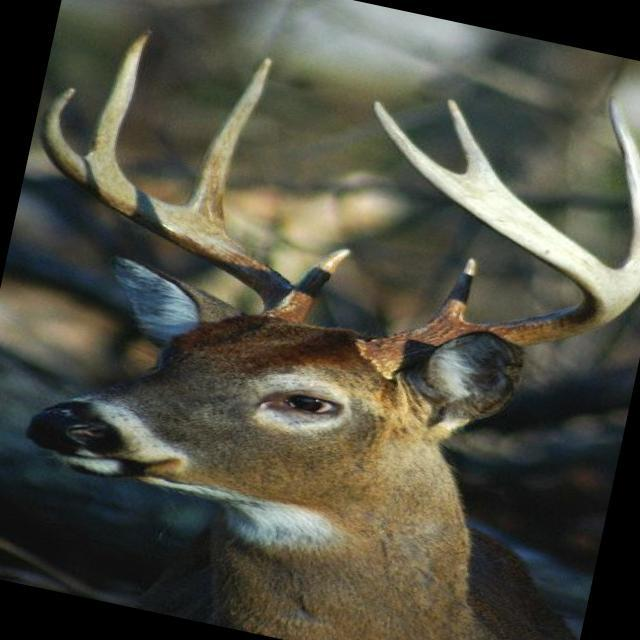E1: (446, 98, 504, 186)
L-F: (356, 98, 628, 380)
R-F: (37, 87, 310, 324)
R-G1: (288, 247, 353, 306), (430, 256, 477, 321)
R-G2: (180, 55, 271, 230), (608, 97, 640, 303)
R-G3: (85, 30, 153, 175)
